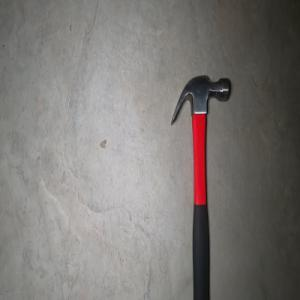Hammer: (169, 73, 231, 300)
